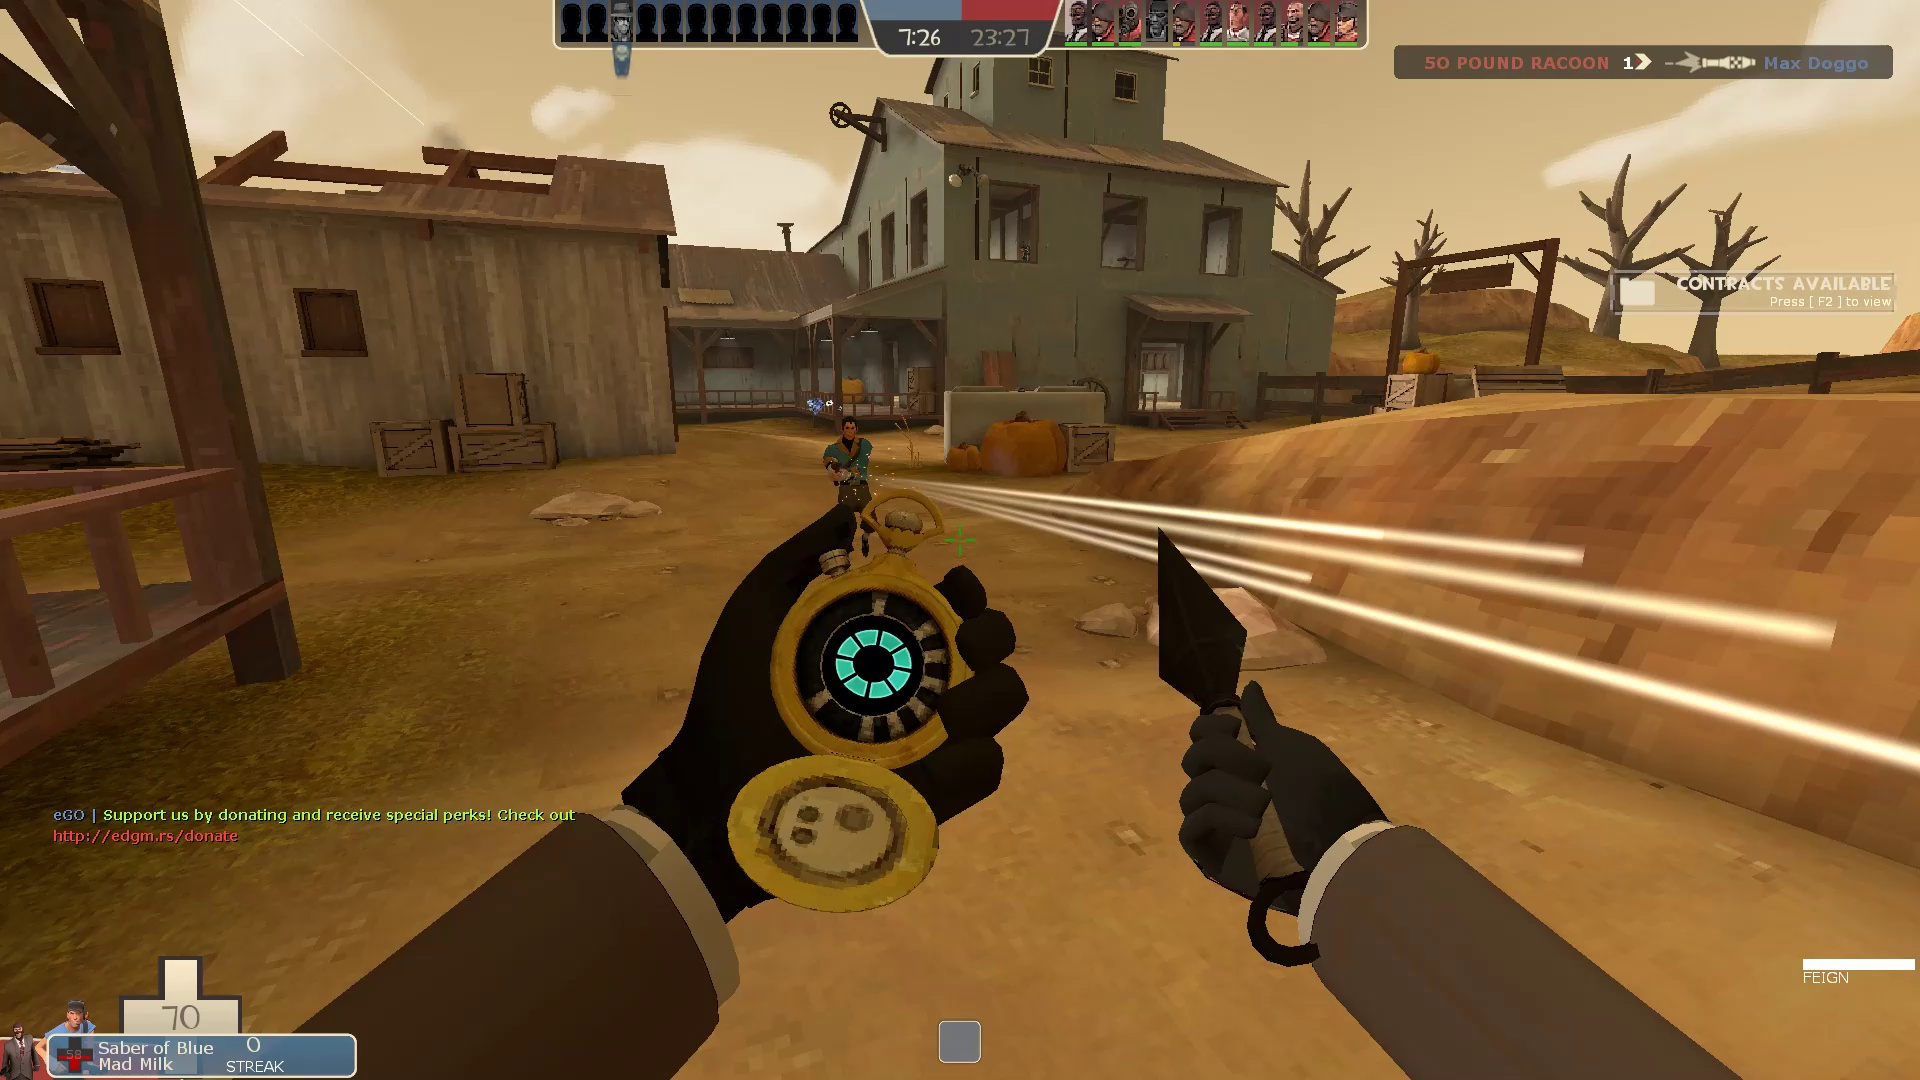blu_scout: (819, 411, 884, 578)
